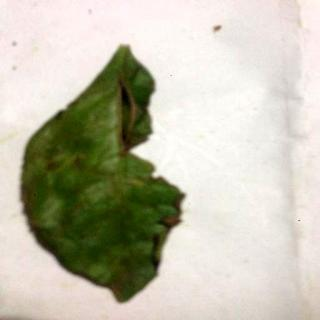Red Leaf Spot: (22, 47, 185, 304)
